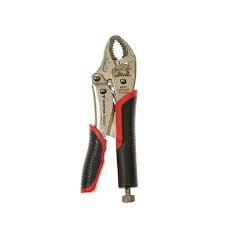pliers: (79, 33, 138, 203)
